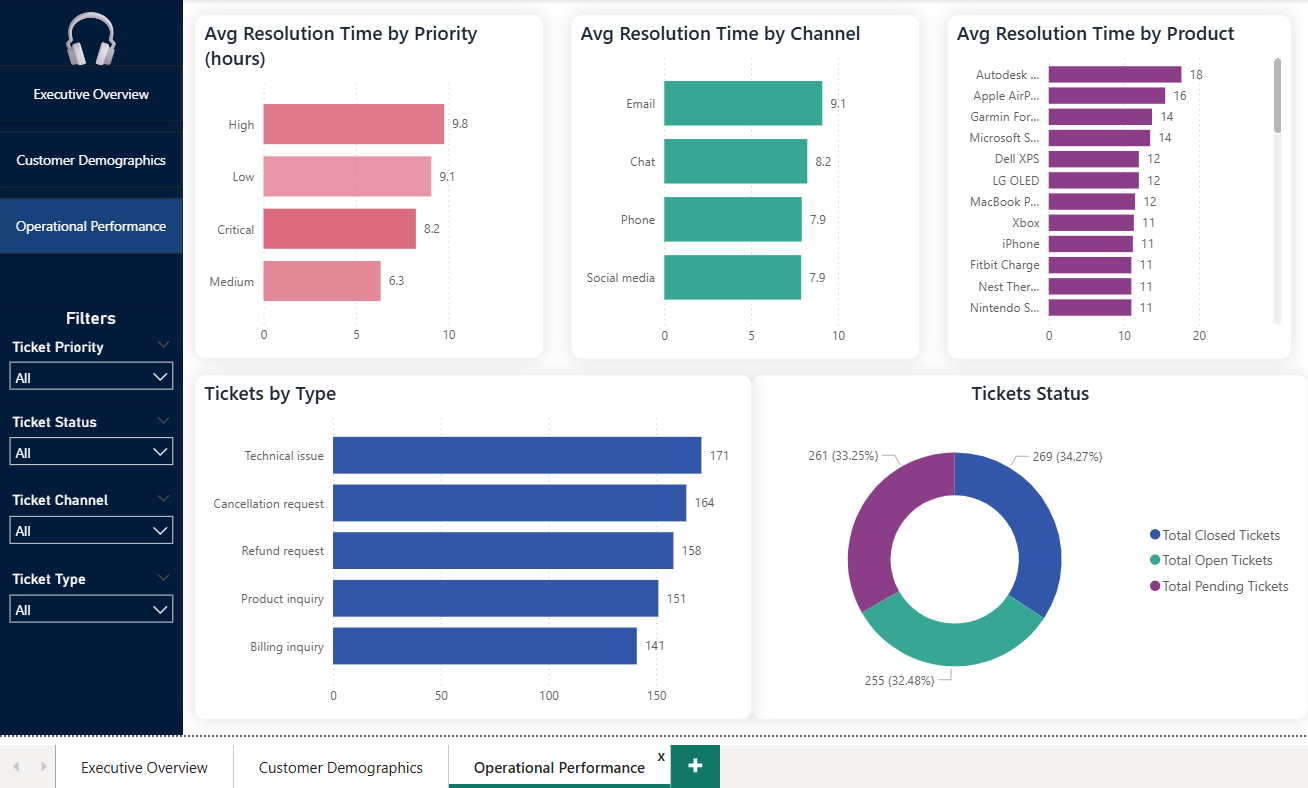

What the dashboard file says about the page in this screenshot:
{"tool":"powerbi","page":{"name":"Operational Performance","canvas":[1280,720],"ordinal":2},"visuals":[{"type":"shape","box":[0,0,180,720],"z":0},{"type":"clusteredBarChart","title":"Avg Resolution Time by Priority (hours)","fields":{"Y":["clean_customer_tickets.Avg Resolution Time"],"Category":["clean_customer_tickets.Ticket Priority"]},"box":[192,16,340,335],"z":1000,"group":"g1"},{"type":"slicer","title":"Filters","fields":{"Values":["clean_customer_tickets.Ticket Priority"]},"box":[0,301.4,180,98.6],"z":1000},{"type":"donutChart","title":"Tickets Status","fields":{"Y":["clean_customer_tickets.Total Closed Tickets","clean_customer_tickets.Total Open Tickets","clean_customer_tickets.Total Pending Tickets"]},"box":[736,368,544,336],"z":1000,"group":"g2"},{"type":"clusteredBarChart","title":"Avg Resolution Time by Channel","fields":{"Y":["clean_customer_tickets.Avg Resolution Time"],"Category":["clean_customer_tickets.Ticket Channel"]},"box":[560,16,340,336],"z":2000,"group":"g1"},{"type":"barChart","title":"Tickets by Type","fields":{"Category":["clean_customer_tickets.Ticket Type"],"Y":["CountNonNull(clean_customer_tickets.Ticket ID)"]},"box":[192,368,544,336],"z":2000,"group":"g2"},{"type":"slicer","title":"Filters","fields":{"Values":["clean_customer_tickets.Ticket Status"]},"box":[0,400,180,77.1],"z":2000},{"type":"clusteredBarChart","title":"Avg Resolution Time by Product","fields":{"Y":["clean_customer_tickets.Avg Resolution Time"],"Category":["clean_customer_tickets.Product Purchased"]},"box":[928,16,336,336],"z":3000,"group":"g1"},{"type":"slicer","title":"Filters","fields":{"Values":["clean_customer_tickets.Ticket Channel"]},"box":[0,477.1,180,77.1],"z":3000},{"type":"slicer","title":"Filters","fields":{"Values":["clean_customer_tickets.Ticket Type"]},"box":[0,554.3,180,77.1],"z":4000},{"type":"pageNavigator","title":"🎧","box":[0,0,180,252],"z":5000},{"type":"group","id":"g1","title":"Group 1","box":[192,16,1072,336],"z":6000},{"type":"group","id":"g2","title":"Group 2","box":[192,368,1088,336],"z":7000}]}

Visuals, with their boxes on the page's 1280x720 design canvas (x1, y1, x2, y2). These are canvas units, not pixel positions in the 1308x788 screenshot, which may show the page scaled, cropped or inside an application window:
shape: {"x1": 0, "y1": 0, "x2": 180, "y2": 720}
"Avg Resolution Time by Priority (hours)" clusteredBarChart: {"x1": 192, "y1": 16, "x2": 532, "y2": 351}
"Filters" slicer: {"x1": 0, "y1": 301, "x2": 180, "y2": 400}
"Tickets Status" donutChart: {"x1": 736, "y1": 368, "x2": 1280, "y2": 704}
"Avg Resolution Time by Channel" clusteredBarChart: {"x1": 560, "y1": 16, "x2": 900, "y2": 352}
"Tickets by Type" barChart: {"x1": 192, "y1": 368, "x2": 736, "y2": 704}
"Filters" slicer: {"x1": 0, "y1": 400, "x2": 180, "y2": 477}
"Avg Resolution Time by Product" clusteredBarChart: {"x1": 928, "y1": 16, "x2": 1264, "y2": 352}
"Filters" slicer: {"x1": 0, "y1": 477, "x2": 180, "y2": 554}
"Filters" slicer: {"x1": 0, "y1": 554, "x2": 180, "y2": 631}
"🎧" pageNavigator: {"x1": 0, "y1": 0, "x2": 180, "y2": 252}
"Group 1" group: {"x1": 192, "y1": 16, "x2": 1264, "y2": 352}
"Group 2" group: {"x1": 192, "y1": 368, "x2": 1280, "y2": 704}
